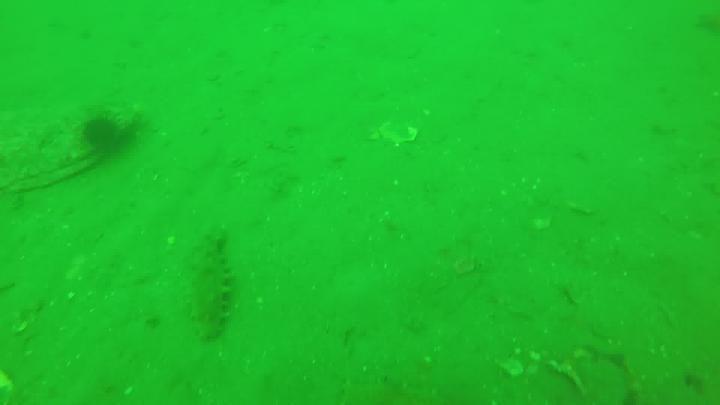echinus: (186, 237, 235, 343)
starfish: (75, 113, 122, 156)
